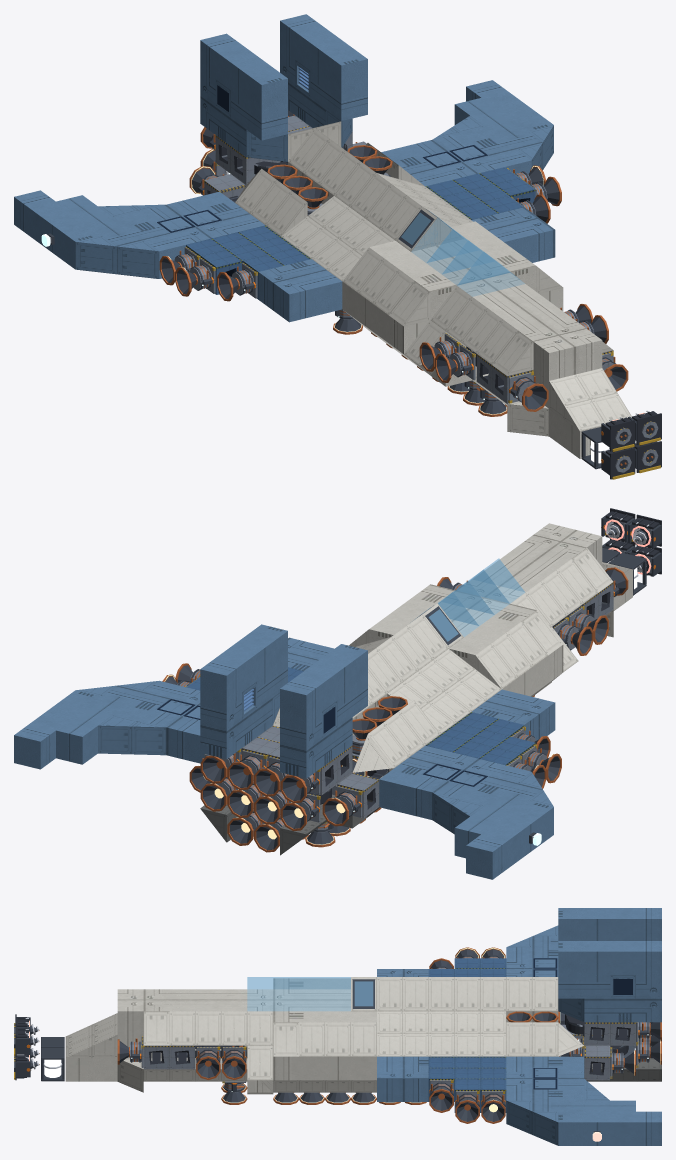
File: nave.glb
3 views of the same model, one above another, from view 1: azimuth 30°, elevation 25°; view 2: azimuth 150°, elevation 25°; view 3: azimuth 270°, elevation 25° (orthographic). The views are drawn at different scales.
Parts seen in each view (by area): view 1: _MeshInstance3D_403, _MeshInstance3D_408, _MeshInstance3D_301, _MeshInstance3D_413, _MeshInstance3D_72, _MeshInstance3D_418, _MeshInstance3D_456; view 2: _MeshInstance3D_403, _MeshInstance3D_408, _MeshInstance3D_301, _MeshInstance3D_413, _MeshInstance3D_72, _MeshInstance3D_418, _MeshInstance3D_456; view 3: _MeshInstance3D_403, _MeshInstance3D_413, _MeshInstance3D_301, _MeshInstance3D_72, _MeshInstance3D_418, _MeshInstance3D_408, _MeshInstance3D_456.
Part boxes in pixels (<box>): _MeshInstance3D_403: <box>200,14,636,469</box>; _MeshInstance3D_408: <box>14,190,342,322</box>; _MeshInstance3D_301: <box>159,110,628,416</box>; _MeshInstance3D_413: <box>381,80,555,262</box>; _MeshInstance3D_72: <box>186,115,613,403</box>; _MeshInstance3D_418: <box>395,206,524,296</box>; _MeshInstance3D_456: <box>601,410,661,479</box>; _MeshInstance3D_403: <box>200,523,646,855</box>; _MeshInstance3D_408: <box>379,689,555,879</box>; _MeshInstance3D_301: <box>162,567,628,852</box>; _MeshInstance3D_413: <box>14,637,334,769</box>; _MeshInstance3D_72: <box>186,582,613,818</box>; _MeshInstance3D_418: <box>412,558,524,648</box>; _MeshInstance3D_456: <box>601,508,661,576</box>; _MeshInstance3D_403: <box>41,908,661,1094</box>; _MeshInstance3D_413: <box>377,1056,661,1145</box>; _MeshInstance3D_301: <box>117,947,661,1123</box>; _MeshInstance3D_72: <box>143,958,635,1112</box>; _MeshInstance3D_418: <box>247,977,376,1011</box>; _MeshInstance3D_408: <box>377,925,558,976</box>; _MeshInstance3D_456: <box>14,1014,30,1080</box>.
Size of the model in its own units: 9.3 by 3.5 by 12.5.
31 materials, 2 textured.
